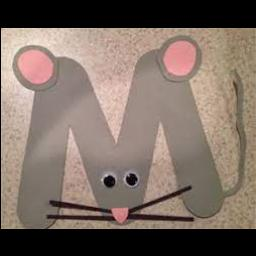m: (6, 42, 230, 228)
